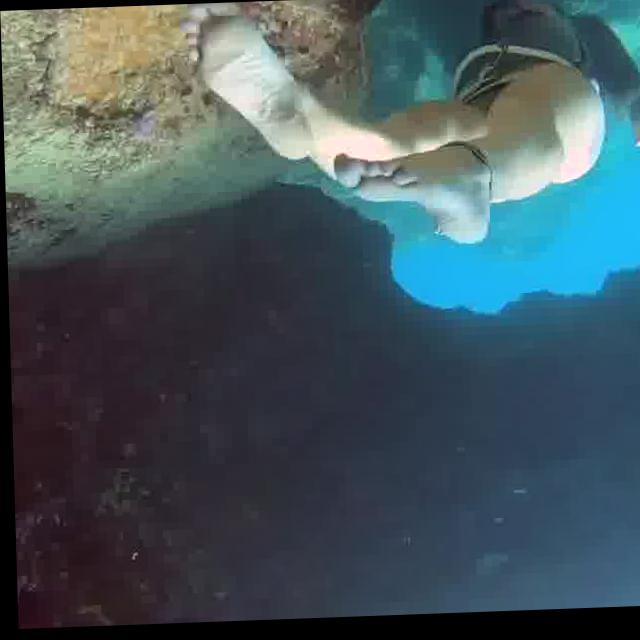human: (180, 0, 640, 282)
